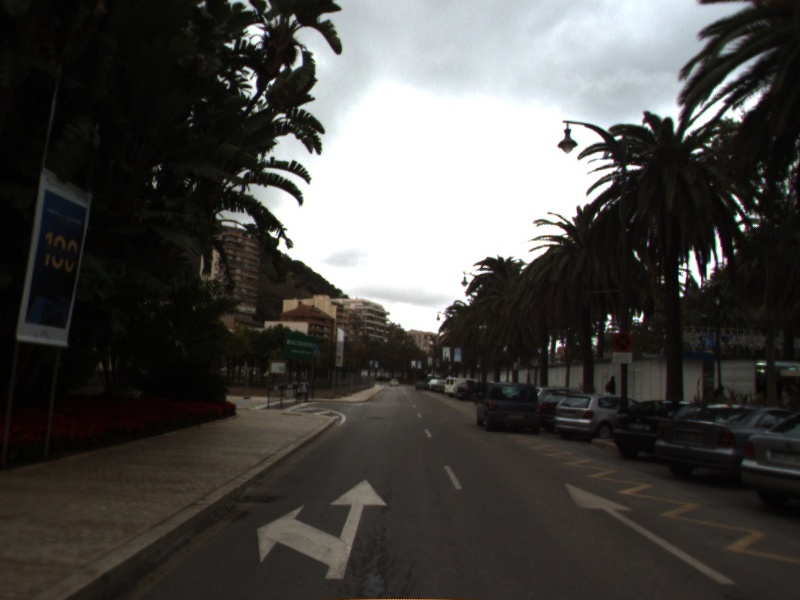STRAIGHT: (563, 481, 737, 586)
STRAIGHT_LEFT: (255, 477, 389, 581)
